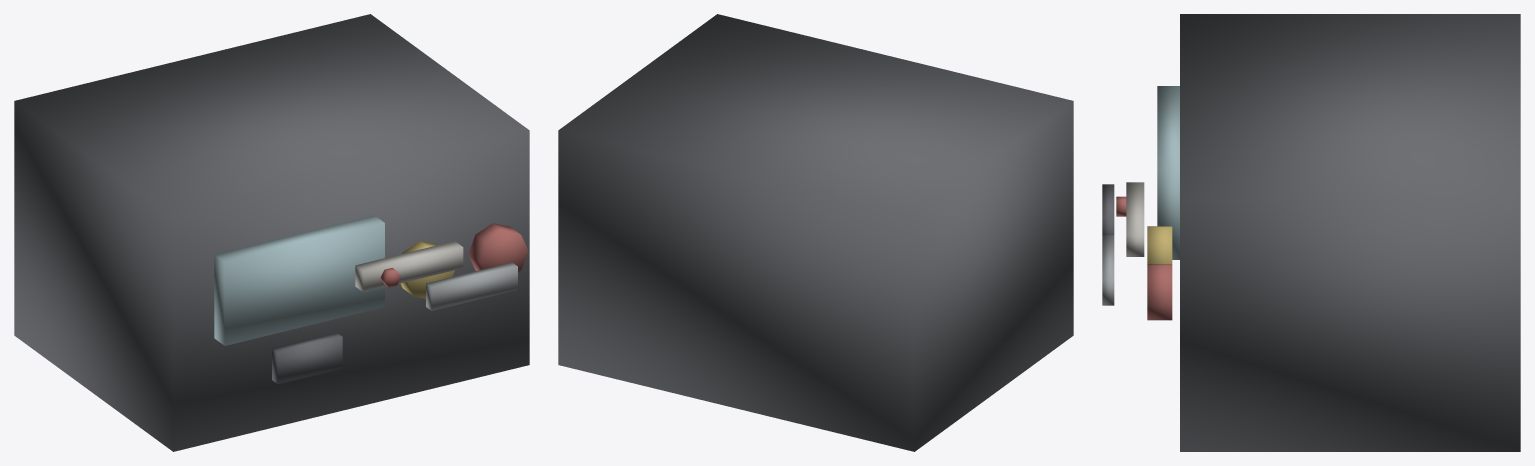
File: bench_power_supply__weathered.glb
3 views of the same model, side by side, from view 1: azimuth 30°, elevation 25°; view 2: azimuth 150°, elevation 25°; view 3: azimuth 270°, elevation 25° (orthographic). The views are drawn at different scales.
Parts seen in each view (by area): view 1: world; view 2: world; view 3: world.
Part boxes in pixels (box(x1,y1,x2,y2)): world: box(14, 14, 529, 451); world: box(558, 14, 1073, 451); world: box(1102, 14, 1520, 451).
Size of the model in its own units: 0.44 by 0.2772 by 0.4175.
